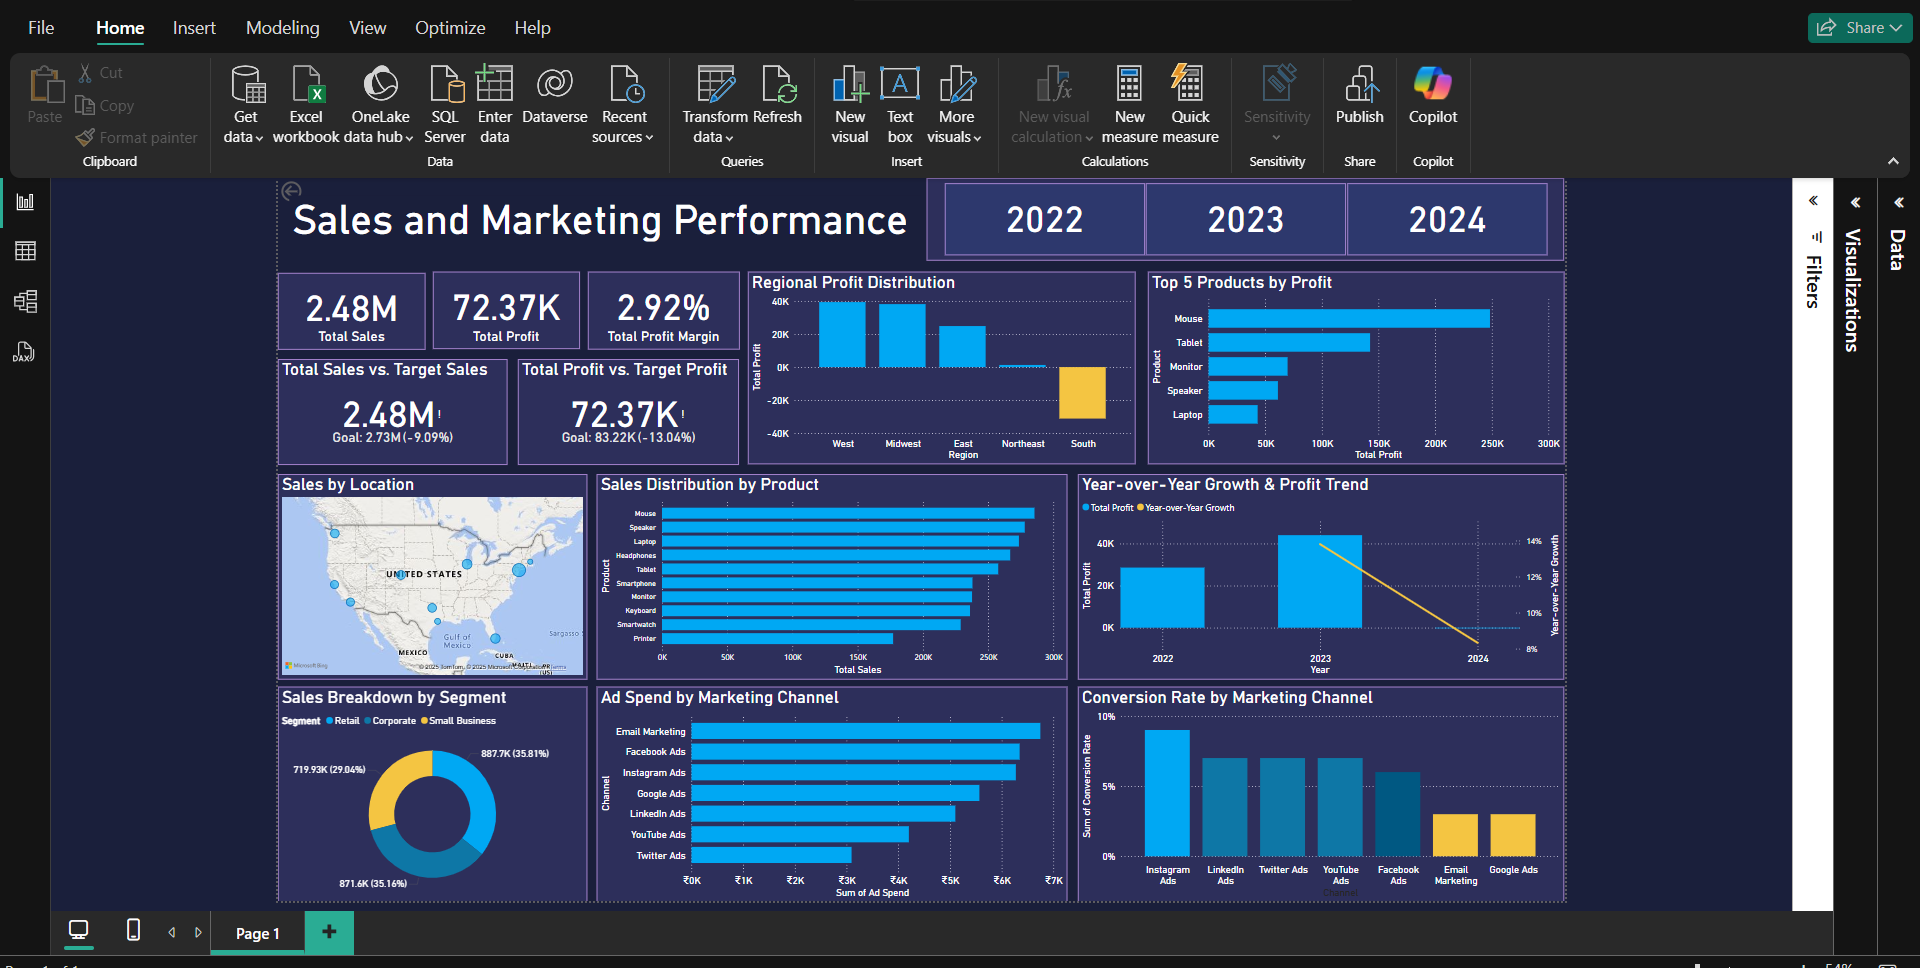

The dashboard page shown, as its layout file describes it:
{"tool":"powerbi","page":{"name":"Page 1","canvas":[1920,1080],"ordinal":0},"visuals":[{"type":"card","fields":{"Values":["Sales Transactions.Total Sales"]},"box":[0,142,220,114],"z":0},{"type":"card","fields":{"Values":["Sales Transactions.Total Profit"]},"box":[231.9,140.4,219.1,114.9],"z":1000},{"type":"card","fields":{"Values":["Sales Transactions.Sales Profit Margin"]},"box":[462,140,226,116],"z":2000},{"type":"barChart","title":"Sales Distribution by Product","fields":{"Y":["Sales Transactions.Total Sales"],"Category":["Sales Transactions.Product"]},"box":[476.6,442.6,702.1,306.4],"z":3000},{"type":"kpi","title":"Total Sales vs. Target Sales","fields":{"Indicator":["Sales Transactions.Total Sales KPI"],"Goal":["Sales Transactions.Target Sales KPI"],"TrendLine":["Time Data.Date"]},"box":[0,270.2,342.6,157.4],"z":4000},{"type":"actionButton","box":[0,0,100,40],"z":5000},{"type":"kpi","title":"Total Profit  vs. Target Profit  ","fields":{"Indicator":["Sales Transactions.Total Profit KPI"],"Goal":["Sales Transactions.Target Profit KPI"],"TrendLine":["Time Data.Date"]},"box":[357.4,270.2,329.8,157.4],"z":6000},{"type":"lineClusteredColumnComboChart","title":"Year-over-Year Growth & Profit Trend","fields":{"Y":["Sales Transactions.Total Profit"],"Y2":["Sales Transactions.YoY Growth","Sales Transactions.YoY Growth"],"Category":["DateTable.Year"]},"box":[1193.6,442.6,725.5,306.4],"z":7000},{"type":"map","title":"Sales by Location","fields":{"Category":["Customer Data.Location","Geographical Data.City"],"Size":["Sales Transactions.Total Sales"]},"box":[0,442.6,461.7,306.4],"z":8000},{"type":"donutChart","title":"Sales Breakdown by Segment","fields":{"Category":["Customer Data.Segment"],"Y":["Sales Transactions.Total Sales"]},"box":[0,759.6,461.7,321.3],"z":9000},{"type":"columnChart","title":"Regional Profit Distribution","fields":{"Category":["Geographical Data.Region"],"Y":["Sales Transactions.Total Profit"]},"box":[702.1,140.4,578.7,287.2],"z":10000},{"type":"barChart","title":"Top 5 Products by Profit","fields":{"Y":["Sales Transactions.Total Profit"],"Category":["Sales Transactions.Product"]},"box":[1297.9,140.4,621.3,287.2],"z":11000},{"type":"barChart","title":"Ad Spend by Marketing Channel","fields":{"Y":["Sum(Marketing Channels.Ad Spend)"],"Category":["Marketing Channels.Channel"]},"box":[476.6,759.6,702.1,321.3],"z":12000},{"type":"columnChart","title":"Conversion Rate by Marketing Channel","fields":{"Category":["Marketing Channels.Channel"],"Y":["Sum(Marketing Channels.Conversion Rate)"]},"box":[1193.6,759.6,725.5,321.3],"z":13000},{"type":"slicer","fields":{"Values":["Time Data.Year"]},"box":[968.1,0,951.1,123.4],"z":14000},{"type":"textbox","title":"Sales and Marketing Performance","box":[17,25.5,942.6,72.3],"z":15000}]}

Visuals, with their boxes on the page's 1920x1080 design canvas (x1, y1, x2, y2). These are canvas units, not pixel positions in the 1920x968 screenshot, which may show the page scaled, cropped or inside an application window:
card - Sales Transactions.Total Sales: [0,142,220,256]
card - Sales Transactions.Total Profit: [232,140,451,255]
card - Sales Transactions.Sales Profit Margin: [462,140,688,256]
"Sales Distribution by Product" barChart: [477,443,1179,749]
"Total Sales vs. Target Sales" kpi: [0,270,343,428]
actionButton: [0,0,100,40]
"Total Profit  vs. Target Profit  " kpi: [357,270,687,428]
"Year-over-Year Growth & Profit Trend" lineClusteredColumnComboChart: [1194,443,1919,749]
"Sales by Location" map: [0,443,462,749]
"Sales Breakdown by Segment" donutChart: [0,760,462,1081]
"Regional Profit Distribution" columnChart: [702,140,1281,428]
"Top 5 Products by Profit" barChart: [1298,140,1919,428]
"Ad Spend by Marketing Channel" barChart: [477,760,1179,1081]
"Conversion Rate by Marketing Channel" columnChart: [1194,760,1919,1081]
slicer - Time Data.Year: [968,0,1919,123]
"Sales and Marketing Performance" textbox: [17,26,960,98]
